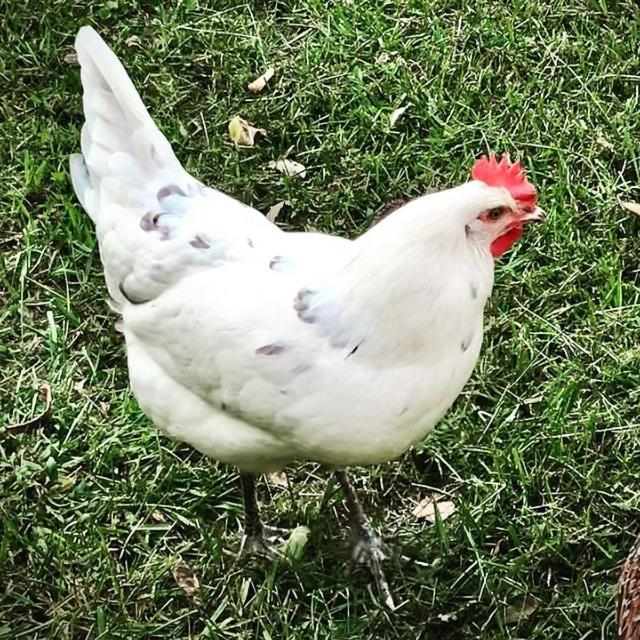Chicken: (68, 24, 551, 557)
